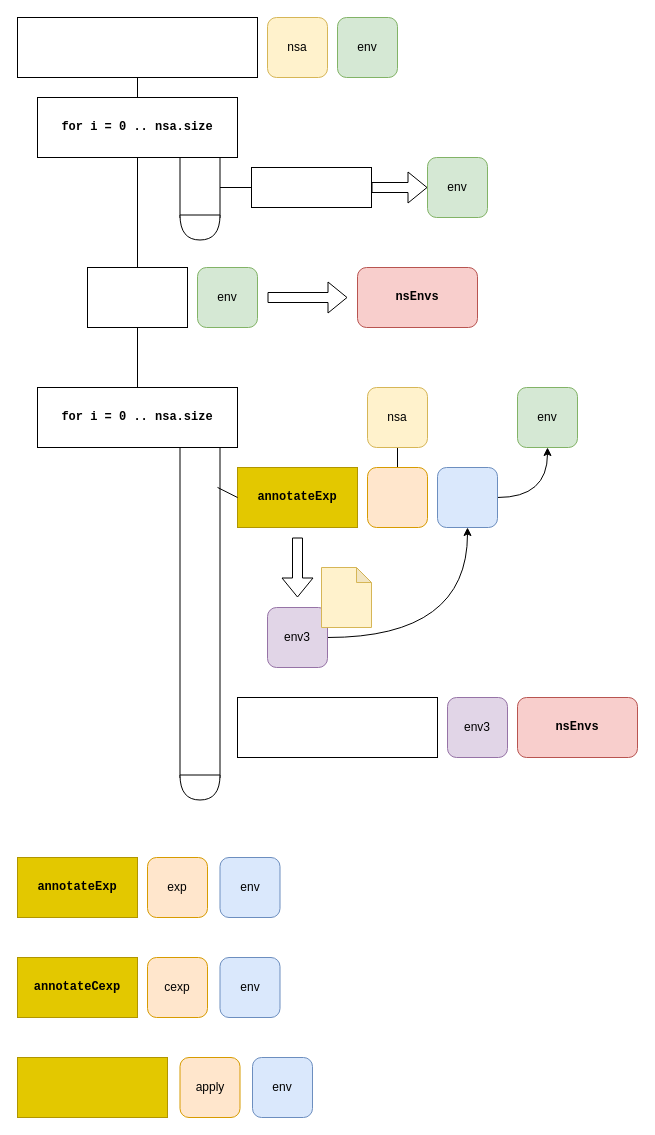
This 655x1135 diagram has some shape labels left out. The shapes that lost their labels are listed below. From the top down, each one's box as (x1, y1, x2, y2) in pixels, then its label:
(16, 16, 258, 78): annotateAexpNameSpaceArray
(250, 166, 372, 208): ns$i: uniqN
(86, 266, 188, 328): getNsEnvs
(366, 466, 428, 528): entry(i)
(436, 466, 498, 528): env2
(320, 566, 372, 628): data$0
(236, 696, 438, 758): pushAnfEnvArray
(16, 1056, 168, 1118): annotateCexpApply
